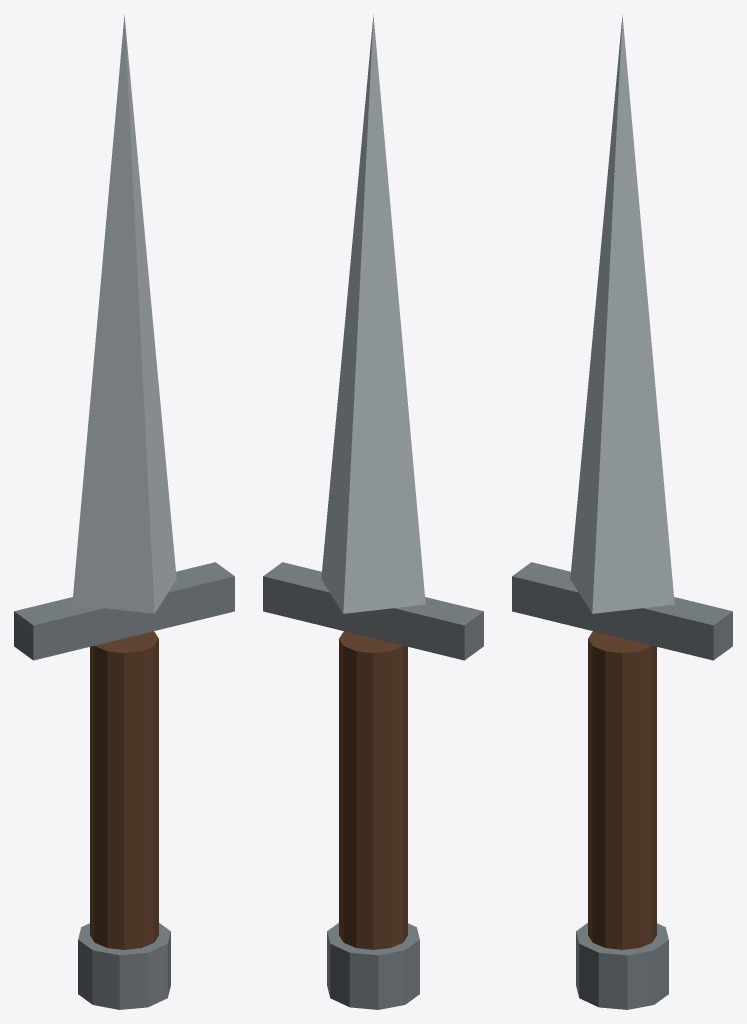
Rendered from two-handed-sword.glb.
3 renders of one model, left to right at view 1: azimuth 30°, elevation 25°; view 2: azimuth 150°, elevation 25°; view 3: azimuth 330°, elevation 25°, orthographic.
Parts seen in each view (by area): view 1: tapered_blade, leather_grip, crossguard, pommel; view 2: tapered_blade, leather_grip, crossguard, pommel; view 3: tapered_blade, leather_grip, crossguard, pommel.
Part boxes in pixels (x1,y1,x2,y2): tapered_blade: [72, 14, 176, 613]; leather_grip: [90, 631, 158, 949]; crossguard: [14, 562, 234, 660]; pommel: [78, 923, 170, 1009]; tapered_blade: [321, 14, 425, 613]; leather_grip: [339, 631, 407, 949]; crossguard: [263, 562, 483, 660]; pommel: [327, 923, 419, 1009]; tapered_blade: [570, 14, 674, 613]; leather_grip: [588, 631, 656, 949]; crossguard: [512, 562, 732, 660]; pommel: [576, 923, 668, 1009].
Size of the model in its own units: 0.27 by 1.25 by 0.14.
